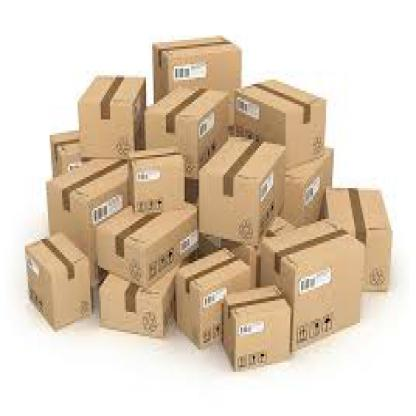paquete: (259, 219, 373, 352), (197, 120, 289, 245), (147, 31, 248, 144), (226, 57, 327, 166), (92, 181, 202, 281), (320, 170, 400, 304), (142, 69, 232, 174), (169, 250, 259, 354), (19, 221, 96, 336), (70, 57, 150, 166), (94, 259, 184, 343), (273, 130, 342, 226), (216, 290, 293, 374), (122, 135, 192, 219), (39, 106, 96, 182)
